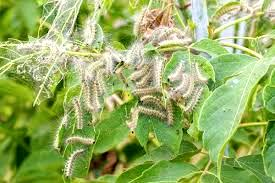Caterpillar: (124, 107, 166, 134), (17, 41, 64, 60), (182, 86, 206, 121), (61, 148, 87, 178), (52, 113, 69, 152), (80, 69, 94, 110), (64, 134, 99, 149), (166, 59, 187, 83), (71, 95, 84, 133), (123, 40, 140, 69), (134, 7, 151, 35), (93, 78, 107, 110), (140, 94, 166, 111), (154, 28, 176, 47), (130, 83, 159, 96), (85, 18, 98, 46), (183, 75, 197, 101), (107, 43, 125, 62), (166, 96, 177, 127), (192, 65, 209, 85), (104, 52, 117, 77)
